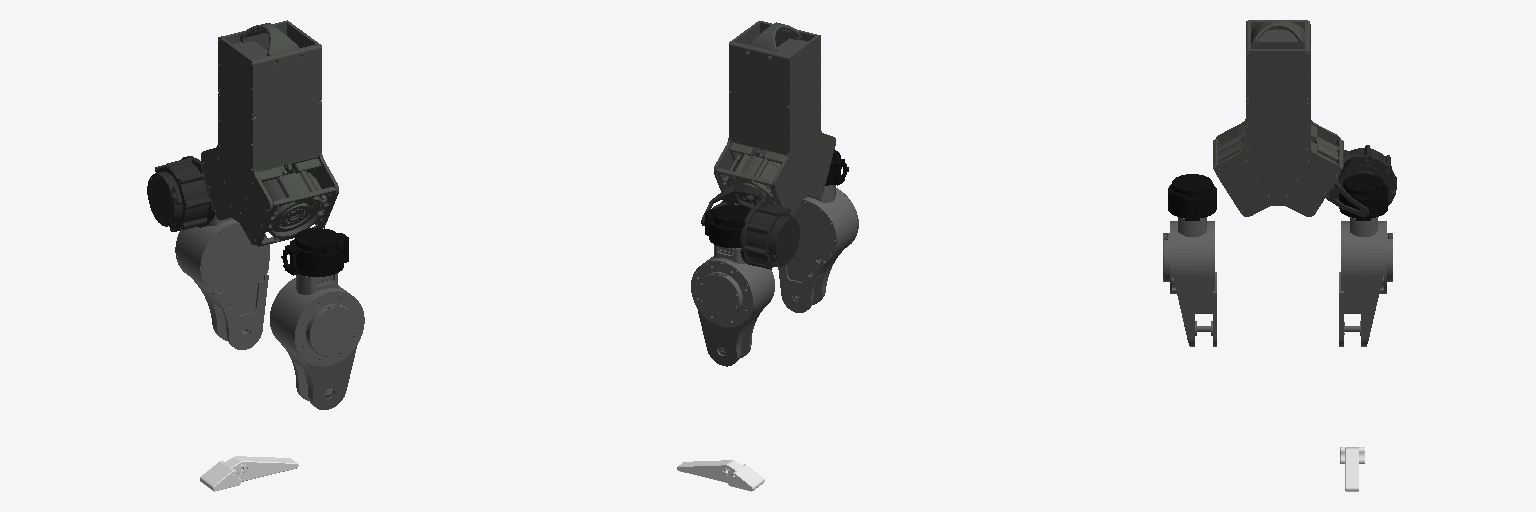
The robot description file, URDF, robot "opus":
<robot name="opus">
<link name="pelvis_link">
<visual>
<origin xyz="0 0 0" rpy="0 -0 0" />
<geometry>
<mesh filename="pelvis_link_visual.stl"/>
</geometry>
<material name="pelvis_link_material">
<color rgba="0.32400195141901910745 0.33806991756844567698 0.31745871134951836323 1.0"/>
</material>
</visual>
<collision>
<origin xyz="0 0 0" rpy="0 -0 0" />
<geometry>
<mesh filename="pelvis_link_collision.stl"/>
</geometry>
</collision>
<inertial>
<origin xyz="0.055494737403930939623 8.1624832902174879266e-06 0.08728755576130110827" rpy="0 0 0"/>
<mass value="4.2237984187140220627" />
<inertia ixx="0.037409013798544693552" ixy="5.5292884225920102548e-07"  ixz="0.00098665308291457786034" iyy="0.031160949003273236135" iyz="1.5650943826694616035e-06" izz="0.01615679856041256357" />
</inertial>
</link>

<link name="left_hip_roll_motor_link">
<visual>
<origin xyz="0 0 0" rpy="0 -0 0" />
<geometry>
<mesh filename="left_hip_roll_motor_link_visual.stl"/>
</geometry>
<material name="left_hip_roll_motor_link_material">
<color rgba="0.22161068753538584741 0.22161068753538584741 0.22161068753538584741 1.0"/>
</material>
</visual>
<collision>
<origin xyz="0 0 0" rpy="0 -0 0" />
<geometry>
<mesh filename="left_hip_roll_motor_link_collision.stl"/>
</geometry>
</collision>
<inertial>
<origin xyz="-0.061978077085280830483 -1.6346940124861801389e-05 -0.065724749776657001576" rpy="0 0 0"/>
<mass value="1.1228485655554114597" />
<inertia ixx="0.0018087239266174857943" ixy="5.869760707190722157e-06"  ixz="-0.00043358975441911752104" iyy="0.0020908239302983209172" iyz="-7.5095478136525147577e-07" izz="0.0017462833220863701114" />
</inertial>
</link>

<link name="left_hip_yaw_motor_link">
<visual>
<origin xyz="0 0 0" rpy="0 -0 0" />
<geometry>
<mesh filename="left_hip_yaw_motor_link_visual.stl"/>
</geometry>
<material name="left_hip_yaw_motor_link_material">
<color rgba="0.10403402255689388201 0.10403402255689388201 0.10403402255689388201 1.0"/>
</material>
</visual>
<collision>
<origin xyz="0 0 0" rpy="0 -0 0" />
<geometry>
<mesh filename="left_hip_yaw_motor_link_collision.stl"/>
</geometry>
</collision>
<inertial>
<origin xyz="-0.0037705689050530821413 -0.00092272576660780501311 -0.048516732626816265472" rpy="0 0 0"/>
<mass value="0.42916195650474170398" />
<inertia ixx="0.00043817685637262973825" ixy="1.2746670571736649249e-06"  ixz="2.2934849336644198646e-06" iyy="0.00033809001027500169877" iyz="2.4960436754053071107e-07" izz="0.00028624800041380480146" />
</inertial>
</link>

<link name="left_thigh_link">
<visual>
<origin xyz="0 0 0" rpy="0 -0 0" />
<geometry>
<mesh filename="left_thigh_link_visual.stl"/>
</geometry>
<material name="left_thigh_link_material">
<color rgba="0.41330881324433521584 0.41330881324433521584 0.41330881324433521584 1.0"/>
</material>
</visual>
<collision>
<origin xyz="0 0 0" rpy="0 -0 0" />
<geometry>
<mesh filename="left_thigh_link_collision.stl"/>
</geometry>
</collision>
<inertial>
<origin xyz="0.0039920729013114379657 -0.0029689580736122350713 -0.10025961464410799995" rpy="0 0 0"/>
<mass value="1.8402836771561681406" />
<inertia ixx="0.0062754438428001529243" ixy="-8.1474785886639591479e-05"  ixz="-0.00046572026208983646669" iyy="0.0055424358243492122256" iyz="-0.00043301078691009123626" izz="0.0025081063983762425483" />
</inertial>
</link>

<link name="left_calf_link">
<visual>
<origin xyz="0 0 0" rpy="0 -0 0" />
<geometry>
<mesh filename="left_calf_link_visual.stl"/>
</geometry>
<material name="left_calf_link_material">
<color rgba="0.617720720567560444 0.61655852293427715338 0.61346502629274357599 1.0"/>
</material>
</visual>
<collision>
<origin xyz="0 0 0" rpy="0 -0 0" />
<geometry>
<mesh filename="left_calf_link_collision.stl"/>
</geometry>
</collision>
<inertial>
<origin xyz="-0.001421532461845011544 0.078038318346702009731 -0.014627565768691985423" rpy="0 0 0"/>
<mass value="0.87768485161424836249" />
<inertia ixx="0.0034509243769695690206" ixy="3.2999822422170181407e-05"  ixz="6.2072294147494892899e-06" iyy="0.00041701133630754600281" iyz="-4.4380435081887264473e-05" izz="0.0035147076261725519047" />
</inertial>
</link>

<link name="left_foot_link">
<visual>
<origin xyz="0 0 0" rpy="0 -0 0" />
<geometry>
<mesh filename="left_foot_link_visual.stl"/>
</geometry>
<material name="left_foot_link_material">
<color rgba="0.91764705882352970434 0.91764705882352970434 0.91764705882352970434 1.0"/>
</material>
</visual>
<collision>
<origin xyz="0 0 0" rpy="0 -0 0" />
<geometry>
<mesh filename="left_foot_link_collision.stl"/>
</geometry>
</collision>
<inertial>
<origin xyz="0.0070313107413547326283 -0.0088018167612729132643 -0.011000000003742432808" rpy="0 0 0"/>
<mass value="0.23276025693079269163" />
<inertia ixx="3.1841967208691903811e-05" ixy="4.8860524888703442731e-06"  ixz="-3.4344910996884429762e-14" iyy="0.00033723495068383450195" iyz="1.1955861981843882199e-13" izz="0.00033340080338281315522" />
</inertial>
</link>

<joint name="left_foot_pitch_joint" type="revolute">
<origin xyz="-8.3266726846886740532e-17 0.2250000000000074718 -0.00044999999999921491689" rpy="9.0292258049834810148e-16 -3.1362820113545124213e-16 -3.141592653589793116" />
<parent link="left_calf_link" />
<child link="left_foot_link" />
<axis xyz="0 0 1"/>
<limit effort="17" velocity="20" lower="-0.52359877559829881566" upper="0.52359877559829881566"/>
<!-- <limit effort="17" velocity="20" lower="-3.14" upper="3.14"/> -->
<joint_properties friction="0.0"/>
</joint>

<joint name="left_knee_pitch_joint" type="revolute">
<origin xyz="-0.029999999999988438693 -0.016117686929046685929 -0.20700000000002347078" rpy="-1.5707963267948974462 6.5392106819967181196e-17 1.5707963267948972241" />
<parent link="left_thigh_link" />
<child link="left_calf_link" />
<axis xyz="0 0 1"/>
<limit effort="60" velocity="20" lower="-2.0943951023931952626" upper="0"/>
<!-- <limit effort="60" velocity="20" lower="-3.14" upper="3.14"/> -->
<joint_properties friction="0.0"/>
</joint>

<joint name="left_hip_yaw_joint" type="revolute">
<origin xyz="0.017999999999999991701 4.6351811278100285563e-15 -0.048249999999999480804" rpy="1.570796326794896336 -1.5899918699538427285e-13 -1.5707963267948961139" />
<parent link="left_hip_yaw_motor_link" />
<child link="left_thigh_link" />
<axis xyz="0 0 1"/>
<limit effort="17" velocity="20" lower="-1.327497429066887058" upper="1.814095224522906058"/>
<!-- <limit effort="17" velocity="20" lower="-3.14" upper="3.14"/> -->
<joint_properties friction="0.0"/>
</joint>

<joint name="left_hip_roll_joint" type="revolute">
<origin xyz="-0.048250000000000084488 3.0531133177191804862e-15 -0.072464285714286313933" rpy="1.570796326794896558 0.52359877559829937077 -1.570796326794896558" />
<parent link="left_hip_roll_motor_link" />
<child link="left_hip_yaw_motor_link" />
<axis xyz="0 0 1"/>
<limit effort="60" velocity="20" lower="-1.570796326794896558" upper="0.42"/>
<!-- <limit effort="60" velocity="20" lower="-3.14" upper="3.14"/> -->
<joint_properties friction="0.0"/>
</joint>

<joint name="left_hip_pitch_joint" type="revolute">
<origin xyz="0.05800000000000057887 0.075017037854200718794 0.024033320996793439833" rpy="1.0471975511965978534 -0 0" />
<parent link="pelvis_link" />
<child link="left_hip_roll_motor_link" />
<axis xyz="0 0 1"/>
<limit effort="60" velocity="20" lower="-1.0471975511965976313" upper="1.0471975511965976313"/>
<!-- <limit effort="60" velocity="20" lower="-3.14" upper="3.14"/> -->
<joint_properties friction="0.0"/>
</joint>

<link name="right_hip_roll_motor_link">
<visual>
<origin xyz="0 0 0" rpy="0 -0 0" />
<geometry>
<mesh filename="right_hip_roll_motor_link_visual.stl"/>
</geometry>
<material name="right_hip_roll_motor_link_material">
<color rgba="0.22161068753538584741 0.22161068753538584741 0.22161068753538584741 1.0"/>
</material>
</visual>
<collision>
<origin xyz="0 0 0" rpy="0 -0 0" />
<geometry>
<mesh filename="right_hip_roll_motor_link_collision.stl"/>
</geometry>
</collision>
<inertial>
<origin xyz="-0.061978077085280865177 -1.6346940124867740784e-05 -0.065724749776656973821" rpy="0 0 0"/>
<mass value="1.1228485655554114597" />
<inertia ixx="0.0018087239266174853607" ixy="5.8697607071906052664e-06"  ixz="-0.00043358975441911752104" iyy="0.0020908239302983213509" iyz="-7.5095478136534337885e-07" izz="0.0017462833220863714125" />
</inertial>
</link>

<link name="right_hip_yaw_motor_link">
<visual>
<origin xyz="0 0 0" rpy="0 -0 0" />
<geometry>
<mesh filename="right_hip_yaw_motor_link_visual.stl"/>
</geometry>
<material name="right_hip_yaw_motor_link_material">
<color rgba="0.10403402255689388201 0.10403402255689388201 0.10403402255689388201 1.0"/>
</material>
</visual>
<collision>
<origin xyz="0 0 0" rpy="0 -0 0" />
<geometry>
<mesh filename="right_hip_yaw_motor_link_collision.stl"/>
</geometry>
</collision>
<inertial>
<origin xyz="-0.003770568905053093417 -0.0009227257666081368874 -0.04851673262681627935" rpy="0 0 0"/>
<mass value="0.42916195650474170398" />
<inertia ixx="0.00043817685637263477979" ixy="1.2746670571734665075e-06"  ixz="2.2934849336644338407e-06" iyy="0.00033809001027500522243" iyz="2.4960436754064077241e-07" izz="0.00028624800041380512672" />
</inertial>
</link>

<link name="right_thigh_link">
<visual>
<origin xyz="0 0 0" rpy="0 -0 0" />
<geometry>
<mesh filename="right_thigh_link_visual.stl"/>
</geometry>
<material name="right_thigh_link_material">
<color rgba="0.41330878054442615754 0.41330878054442615754 0.41330878054442615754 1.0"/>
</material>
</visual>
<collision>
<origin xyz="0 0 0" rpy="0 -0 0" />
<geometry>
<mesh filename="right_thigh_link_collision.stl"/>
</geometry>
</collision>
<inertial>
<origin xyz="-0.0039921803385959955465 -0.0029689518519915160215 -0.10020132062082061364" rpy="0 0 0"/>
<mass value="1.8402836289651212098" />
<inertia ixx="0.0062780763317767281084" ixy="8.147210421328158125e-05"  ixz="0.00046902879733184152464" iyy="0.0055450597242148215449" iyz="-0.00043460603555642686804" izz="0.0025080966446985437056" />
</inertial>
</link>

<link name="right_calf_link">
<visual>
<origin xyz="0 0 0" rpy="0 -0 0" />
<geometry>
<mesh filename="right_calf_link_visual.stl"/>
</geometry>
<material name="right_calf_link_material">
<color rgba="0.6177207117690427518 0.61655851410166573334 0.61346501736938263694 1.0"/>
</material>
</visual>
<collision>
<origin xyz="0 0 0" rpy="0 -0 0" />
<geometry>
<mesh filename="right_calf_link_collision.stl"/>
</geometry>
</collision>
<inertial>
<origin xyz="-0.0014215327011294495111 -0.078332246394172397319 -0.01462755799042913564" rpy="0 0 0"/>
<mass value="0.87768482586684304358" />
<inertia ixx="0.0034451530378813819029" ixy="-3.2761531683842833691e-05"  ixz="6.2072661614746902002e-06" iyy="0.00041701137797736447747" iyz="4.2617150372740682848e-05" izz="0.0035089362436153573137" />
</inertial>
</link>

<link name="right_foot_link">
<visual>
<origin xyz="0 0 0" rpy="0 -0 0" />
<geometry>
<mesh filename="right_foot_link_visual.stl"/>
</geometry>
<material name="right_foot_link_material">
<color rgba="0.91764705882352970434 0.91764705882352970434 0.91764705882352970434 1.0"/>
</material>
</visual>
<collision>
<origin xyz="0 0 0" rpy="0 -0 0" />
<geometry>
<mesh filename="right_foot_link_collision.stl"/>
</geometry>
</collision>
<inertial>
<origin xyz="0.0070313107413547300262 0.0088018167612729132643 -0.010999999996257519078" rpy="0 0 0"/>
<mass value="0.23276025693079269163" />
<inertia ixx="3.184196720869181572e-05" ixy="-4.8860524888703510494e-06"  ixz="3.4344938581703497181e-14" iyy="0.00033723495068383444774" iyz="1.1955866360317659595e-13" izz="0.00033340080338281315522" />
</inertial>
</link>

<joint name="right_foot_pitch_joint" type="revolute">
<origin xyz="-8.3266726846886740532e-17 -0.22500000000000017208 -0.0004500000000000059508" rpy="1.3965543546938959248e-15 -1.9279402381004161189e-15 -3.1415926535897900074" />
<parent link="right_calf_link" />
<child link="right_foot_link" />
<axis xyz="0 0 1"/>
<limit effort="17" velocity="20" lower="-0.52359877559829881566" upper="0.52359877559829881566"/>
<!-- <limit effort="17" velocity="20" lower="-3.14" upper="3.14"/> -->
<joint_properties friction="0.0"/>
</joint>

<joint name="right_knee_pitch_joint" type="revolute">
<origin xyz="0.030000000000000442979 -0.016117686929050932532 -0.20699999999999987854" rpy="1.5707963267948998887 -7.7741325010078008815e-16 1.5707963267949007768" />
<parent link="right_thigh_link" />
<child link="right_calf_link" />
<axis xyz="0 0 1"/>
<limit effort="60" velocity="20" lower="0" upper="2.0943951023931952626"/>
<!-- <limit effort="60" velocity="20" lower="-3.14" upper="3.14"/> -->
<joint_properties friction="0.0"/>
</joint>

<joint name="right_hip_yaw_joint" type="revolute">
<origin xyz="0.018000000000000238032 4.2188474935755948536e-15 -0.048249999999999453049" rpy="1.57079632679489678 -1.6774335060128660964e-13 -1.570796326794896336" />
<parent link="right_hip_yaw_motor_link" />
<child link="right_thigh_link" />
<axis xyz="0 0 1"/>
<limit effort="17" velocity="20" lower="-1.327497429066887058" upper="1.814095224522906058"/>
<!-- <limit effort="17" velocity="20" lower="-3.14" upper="3.14"/> -->
<joint_properties friction="0.0"/>
</joint>

<joint name="right_hip_roll_joint" type="revolute">
<origin xyz="-0.048250000000000209388 3.0392355299113660294e-15 -0.072464285714286341689" rpy="-1.570796326794896558 0.52359877559829892668 1.570796326794896558" />
<parent link="right_hip_roll_motor_link" />
<child link="right_hip_yaw_motor_link" />
<axis xyz="0 0 1"/>
<limit effort="60" velocity="20" lower="-0.42" upper="1.570796326794896558"/>
<!-- <limit effort="60" velocity="20" lower="-3.14" upper="3.14"/> -->
<joint_properties friction="0.0"/>
</joint>

<joint name="right_hip_pitch_joint" type="revolute">
<origin xyz="0.058000000000000606626 -0.075017037854200718794 0.024033320996793533508" rpy="-1.0471975511965978534 -0 0" />
<parent link="pelvis_link" />
<child link="right_hip_roll_motor_link" />
<axis xyz="0 0 1"/>
<limit effort="60" velocity="20" lower="-1.0471975511965976313" upper="1.0471975511965976313"/>
<!-- <limit effort="60" velocity="20" lower="-3.14" upper="3.14"/> -->
<joint_properties friction="0.0"/>
</joint>


</robot>

--- What the picture shows (computed from the rendered views, not written in the file) ---
3 views of the same robot in one strip: view 1: azimuth 30°, elevation 25°; view 2: azimuth 150°, elevation 25°; view 3: azimuth 270°, elevation 25° (orthographic).
Model opus with 11 links and 10 joints (10 revolute), rooted at pelvis_link, posed every joint at zero.
Links seen in each view (by area): view 1: pelvis_link, right_thigh_link, left_thigh_link, left_hip_roll_motor_link, right_hip_yaw_motor_link, left_foot_link; view 2: pelvis_link, left_thigh_link, right_thigh_link, left_hip_roll_motor_link, left_foot_link, left_hip_yaw_motor_link; view 3: pelvis_link, left_thigh_link, right_thigh_link, left_hip_roll_motor_link, right_hip_yaw_motor_link, left_hip_yaw_motor_link, left_foot_link.
Boxes of the visible links, left/top/right/bottom form: pelvis_link: left=201, top=20, right=338, bottom=246; right_thigh_link: left=270, top=273, right=364, bottom=409; left_thigh_link: left=175, top=215, right=269, bottom=349; left_hip_roll_motor_link: left=147, top=156, right=214, bottom=231; right_hip_yaw_motor_link: left=281, top=228, right=348, bottom=276; left_foot_link: left=200, top=456, right=298, bottom=491; pelvis_link: left=714, top=21, right=835, bottom=216; left_thigh_link: left=691, top=245, right=774, bottom=366; right_thigh_link: left=778, top=185, right=858, bottom=312; left_hip_roll_motor_link: left=701, top=184, right=799, bottom=269; left_foot_link: left=677, top=460, right=764, bottom=491; left_hip_yaw_motor_link: left=704, top=204, right=750, bottom=247; pelvis_link: left=1213, top=20, right=1343, bottom=216; left_thigh_link: left=1339, top=217, right=1392, bottom=346; right_thigh_link: left=1163, top=217, right=1216, bottom=346; left_hip_roll_motor_link: left=1326, top=145, right=1396, bottom=216; right_hip_yaw_motor_link: left=1168, top=174, right=1216, bottom=220; left_hip_yaw_motor_link: left=1339, top=174, right=1387, bottom=220; left_foot_link: left=1340, top=447, right=1364, bottom=491.
Bounding box of the posed robot: 0.216 × 0.3756 × 0.7819 m (x, y, z).
Meshes: 11 distinct files referenced, 7 mesh visuals loaded (7 binary STL); not drawn: 4 (reference not matched to a file when rendering).